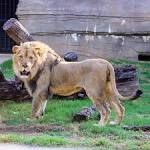lion: (10, 43, 135, 134)
